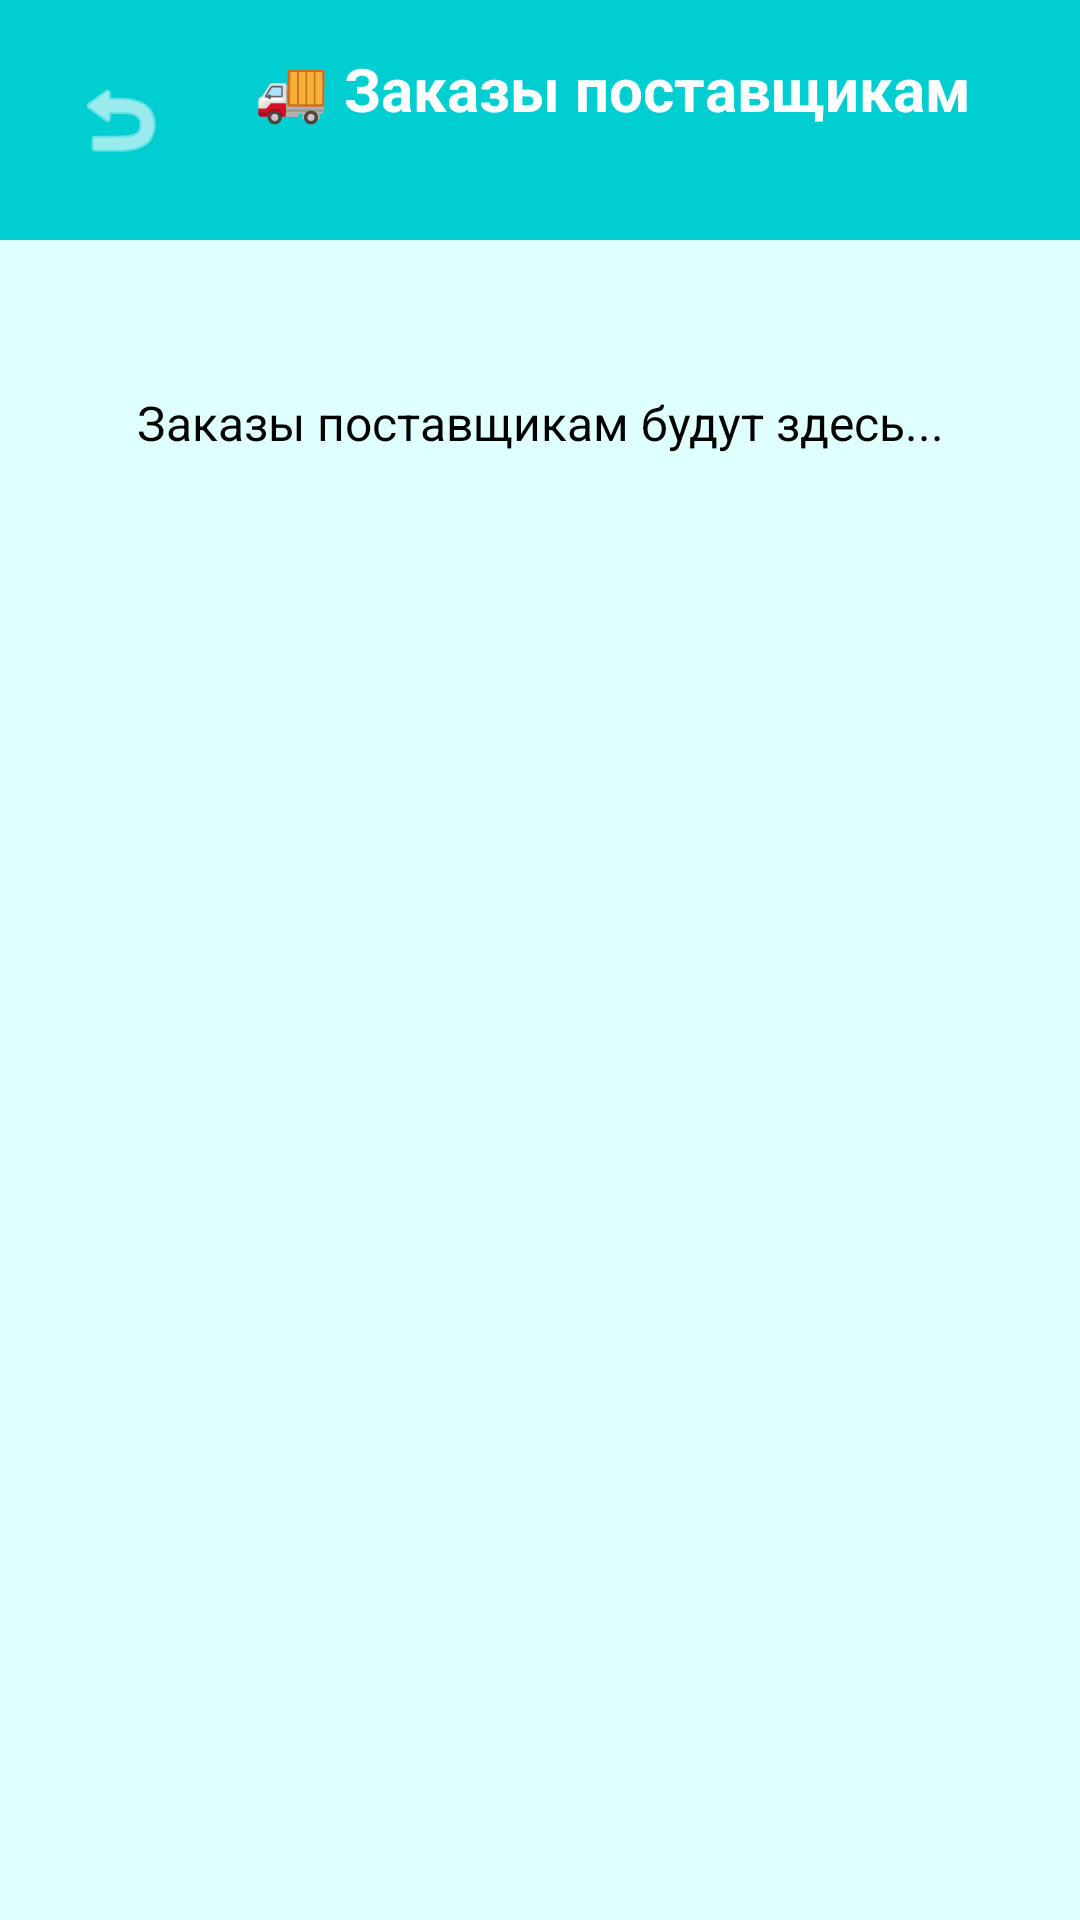

Named icons in this screenshot (1080x1920) and their centers, (x=x, y=y):
revert: (x=121, y=120)
